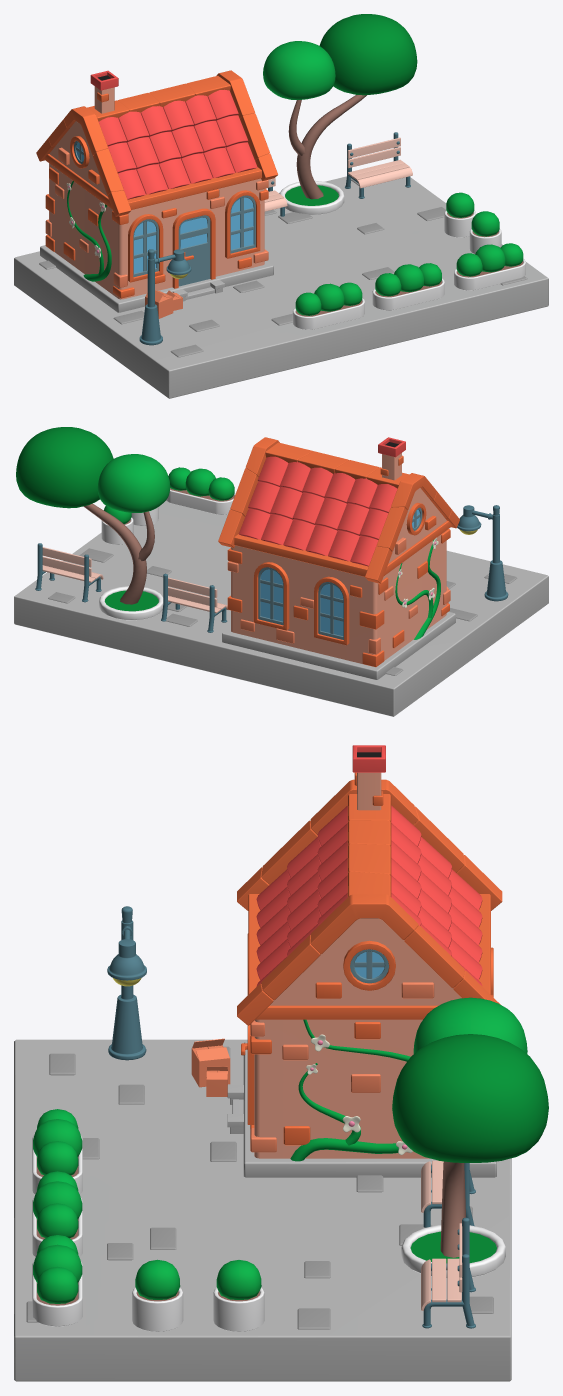
Rendered from Town_Island_2.glb.
3 renders of one model, top to bottom at view 1: azimuth 30°, elevation 25°; view 2: azimuth 150°, elevation 25°; view 3: azimuth 270°, elevation 25°, orthographic. The views are drawn at different scales.
Parts seen in each view (by area): view 1: Town_2_Base_1, Town_2_House_1, Town_2_Tree_1, Town_2_Plant_5, Town_2_Plant_2, Town_2_Plant_3, Town_2_Bench_2, Town_2_Street_Lamp_1, Town_2_Plant_1, Town_2_Plant_4, Town_2_Bench_1; view 2: Town_2_House_1, Town_2_Base_1, Town_2_Tree_1, Town_2_Plant_3, Town_2_Bench_2, Town_2_Bench_1, Town_2_Street_Lamp_1, Town_2_Plant_1; view 3: Town_2_Base_1, Town_2_House_1, Town_2_Tree_1, Town_2_Plant_3, Town_2_Street_Lamp_1, Town_2_Plant_5, Town_2_Plant_1, Town_2_Bench_2, Town_2_Plant_4, Town_2_Plant_2, Town_2_Bench_1, Town_2_Box_2.
Part boxes in pixels (bbox=[...]): Town_2_Base_1: bbox=[14, 176, 548, 398]; Town_2_House_1: bbox=[36, 70, 277, 312]; Town_2_Tree_1: bbox=[263, 14, 417, 214]; Town_2_Plant_5: bbox=[372, 263, 444, 310]; Town_2_Plant_2: bbox=[292, 282, 364, 329]; Town_2_Plant_3: bbox=[454, 243, 525, 290]; Town_2_Bench_2: bbox=[345, 132, 412, 198]; Town_2_Street_Lamp_1: bbox=[139, 249, 191, 345]; Town_2_Plant_1: bbox=[444, 192, 476, 237]; Town_2_Plant_4: bbox=[469, 211, 501, 253]; Town_2_Bench_1: bbox=[264, 178, 287, 216]; Town_2_House_1: bbox=[218, 437, 459, 679]; Town_2_Base_1: bbox=[14, 500, 548, 716]; Town_2_Tree_1: bbox=[16, 427, 170, 620]; Town_2_Plant_3: bbox=[166, 467, 235, 514]; Town_2_Bench_2: bbox=[35, 543, 103, 602]; Town_2_Bench_1: bbox=[161, 573, 228, 632]; Town_2_Street_Lamp_1: bbox=[457, 505, 508, 601]; Town_2_Plant_1: bbox=[101, 506, 133, 544]; Town_2_Base_1: bbox=[14, 1039, 511, 1381]; Town_2_House_1: bbox=[227, 745, 502, 1177]; Town_2_Tree_1: bbox=[392, 997, 548, 1278]; Town_2_Plant_3: bbox=[32, 1235, 82, 1326]; Town_2_Street_Lamp_1: bbox=[107, 906, 146, 1060]; Town_2_Plant_5: bbox=[32, 1171, 82, 1256]; Town_2_Plant_1: bbox=[213, 1260, 264, 1331]; Town_2_Bench_2: bbox=[421, 1217, 475, 1328]; Town_2_Plant_4: bbox=[132, 1259, 183, 1331]; Town_2_Plant_2: bbox=[32, 1109, 82, 1194]; Town_2_Bench_1: bbox=[421, 1160, 475, 1227]; Town_2_Box_2: bbox=[191, 1038, 230, 1087].
Size of the model in its own units: 15.95 by 9.17 by 12.04.
23 materials, 23 textured.
